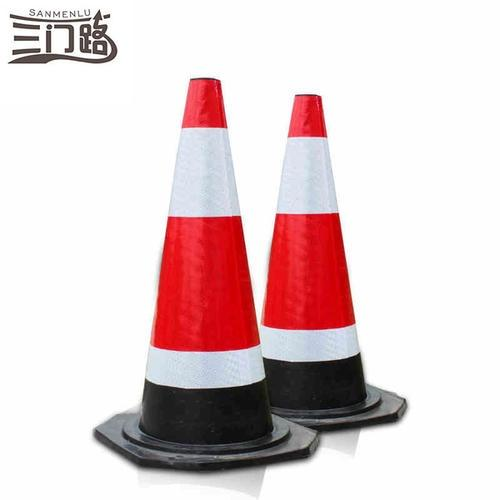cone_barrel: (123, 88, 287, 459), (258, 98, 386, 420)
